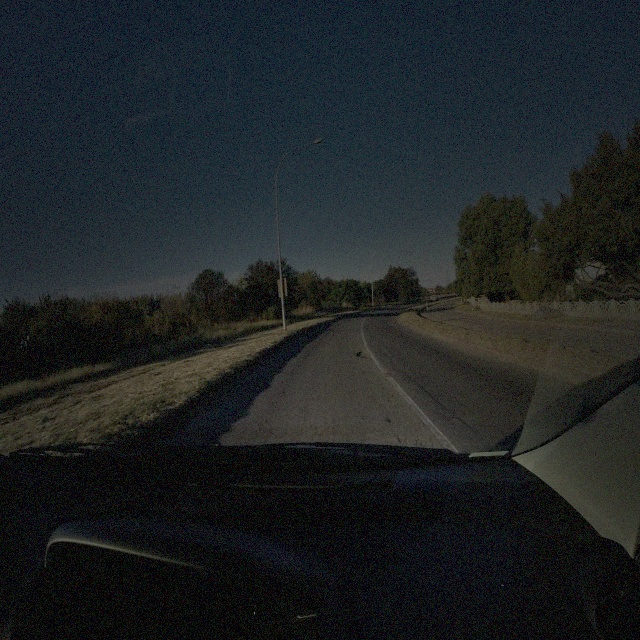pothole: (355, 349, 367, 361)
